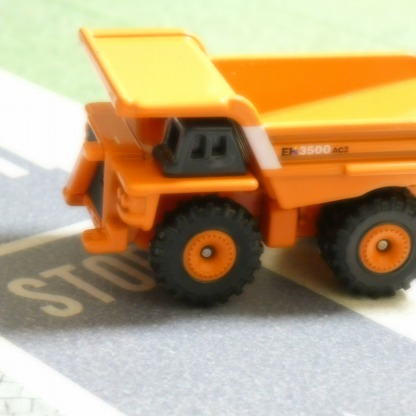car: (72, 24, 416, 304)
